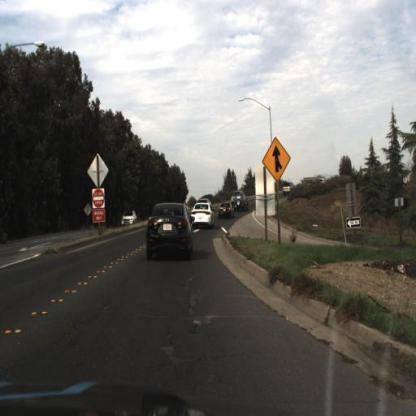car: (144, 204, 195, 259), (190, 201, 217, 233), (192, 202, 215, 230), (220, 198, 237, 223), (233, 189, 250, 212), (119, 209, 140, 227)
